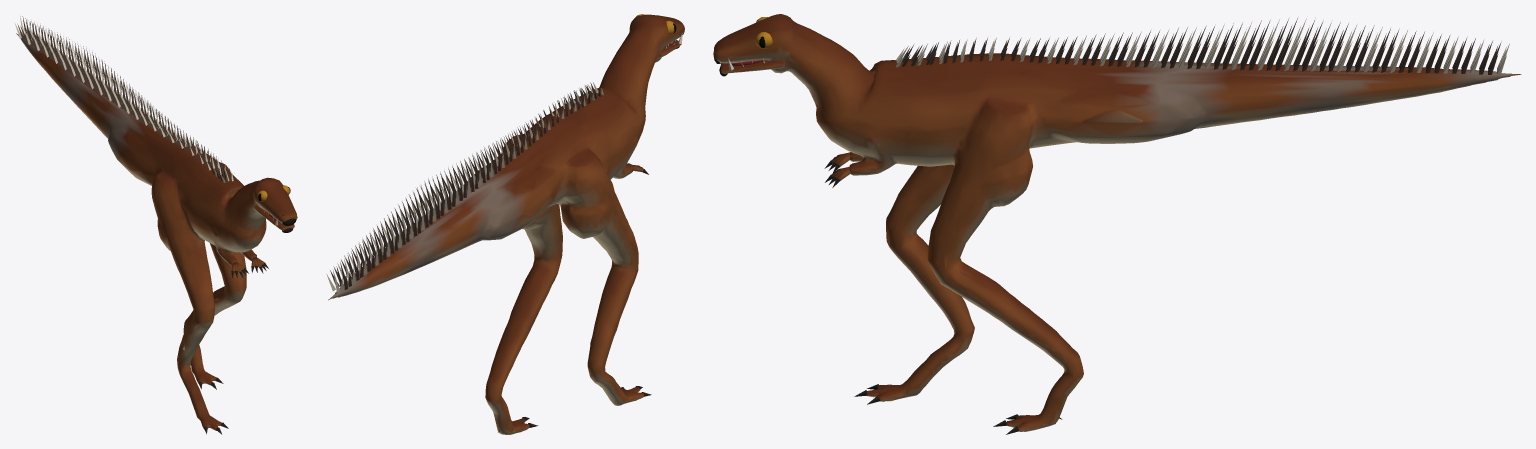
The model's file is Tianyulong.fbx.
3 renders of one model, left to right at view 1: azimuth 30°, elevation 25°; view 2: azimuth 150°, elevation 25°; view 3: azimuth 270°, elevation 25°, orthographic. The views are drawn at different scales.
Parts seen in each view (by area): view 1: Tianyulong; view 2: Tianyulong; view 3: Tianyulong.
Boxes of the visible parts, x1,y1,x2,y2 form: Tianyulong: (15,16,297,434); Tianyulong: (326,14,684,434); Tianyulong: (713,14,1521,434).
Bounding box in the file's own units: 0.392 × 1.31 × 2.42.
